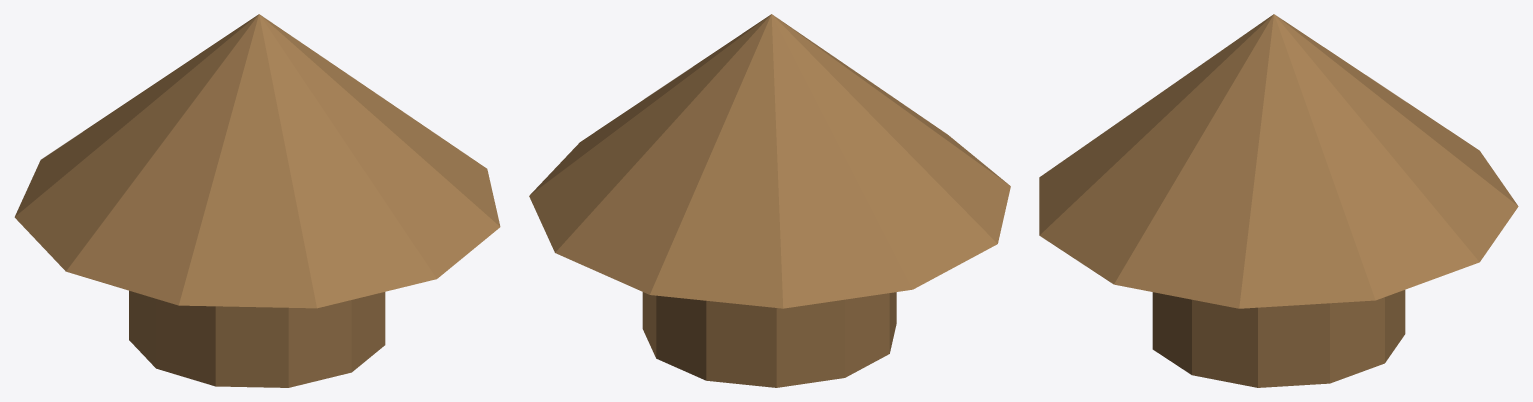
Rendered from bungalov_01.fbx.
The picture shows the model from 3 angles, left to right: view 1: azimuth 30°, elevation 25°; view 2: azimuth 150°, elevation 25°; view 3: azimuth 270°, elevation 25°; orthographic projection.
Visible parts, largest first — view 1: Circle.014; view 2: Circle.014; view 3: Circle.014.
Boxes of the visible parts, x1=… form: Circle.014: x1=14, y1=14, x2=500, y2=387; Circle.014: x1=529, y1=14, x2=1010, y2=387; Circle.014: x1=1039, y1=14, x2=1518, y2=387.
Bounding box in the file's own units: 352 × 256 × 348.
